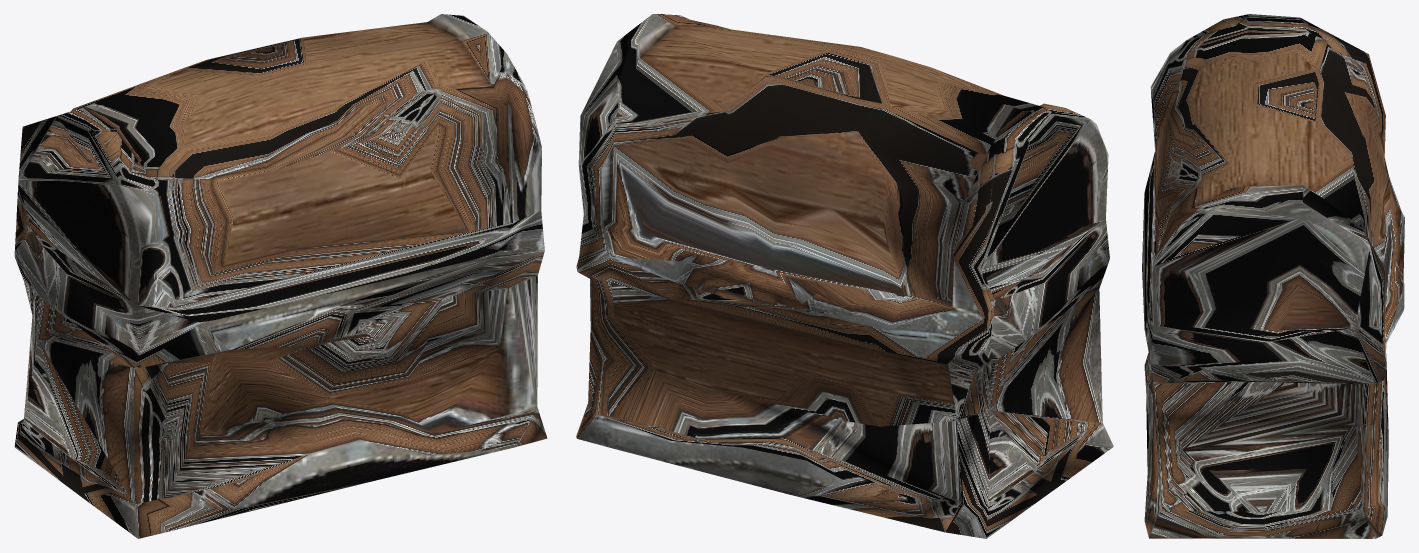
Rendered from meshy_chest_metal_wood_lod1.glb.
3 renders of one model, left to right at view 1: azimuth 30°, elevation 25°; view 2: azimuth 150°, elevation 25°; view 3: azimuth 270°, elevation 25°, orthographic. The views are drawn at different scales.
Size of the model in its own units: 0.9045 by 0.7962 by 0.5386.
Materials: 1 (1 with a texture image).
